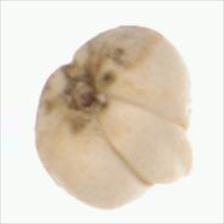L5: (99, 96, 194, 190), (47, 48, 119, 135)
L6: (33, 24, 195, 212)
